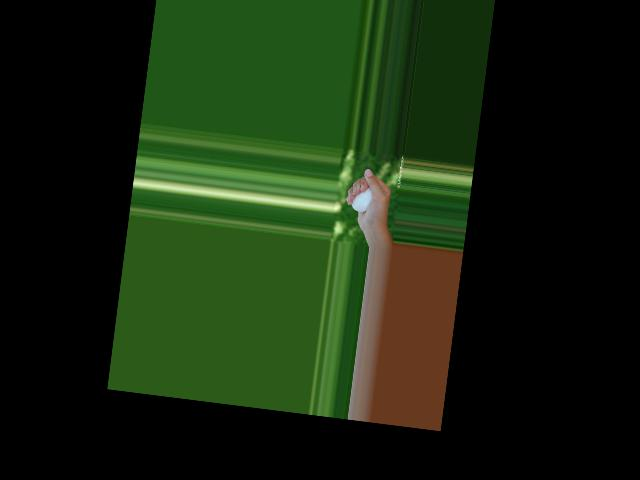egg: (351, 184, 372, 212)
